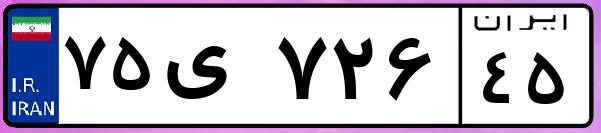2: (330, 28, 385, 110)
4: (475, 38, 525, 113)
5: (525, 38, 570, 115), (110, 28, 158, 98)
6: (385, 28, 445, 110)
7: (270, 28, 330, 110), (57, 26, 110, 100)
ی: (158, 20, 270, 120)
